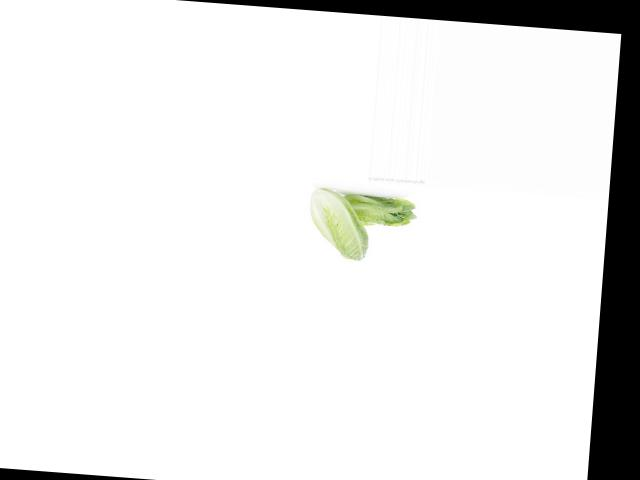lettuce: (341, 183, 417, 236)
